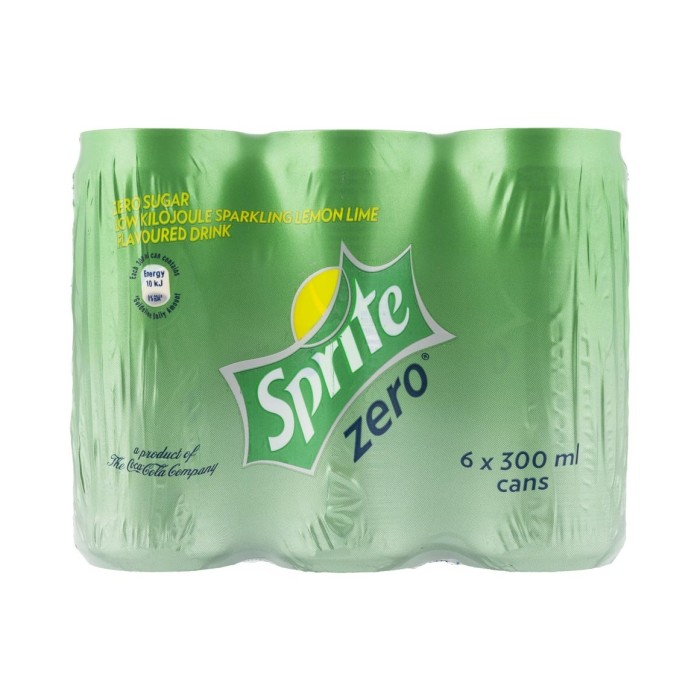sprite: (256, 276, 410, 454), (266, 276, 410, 454)
